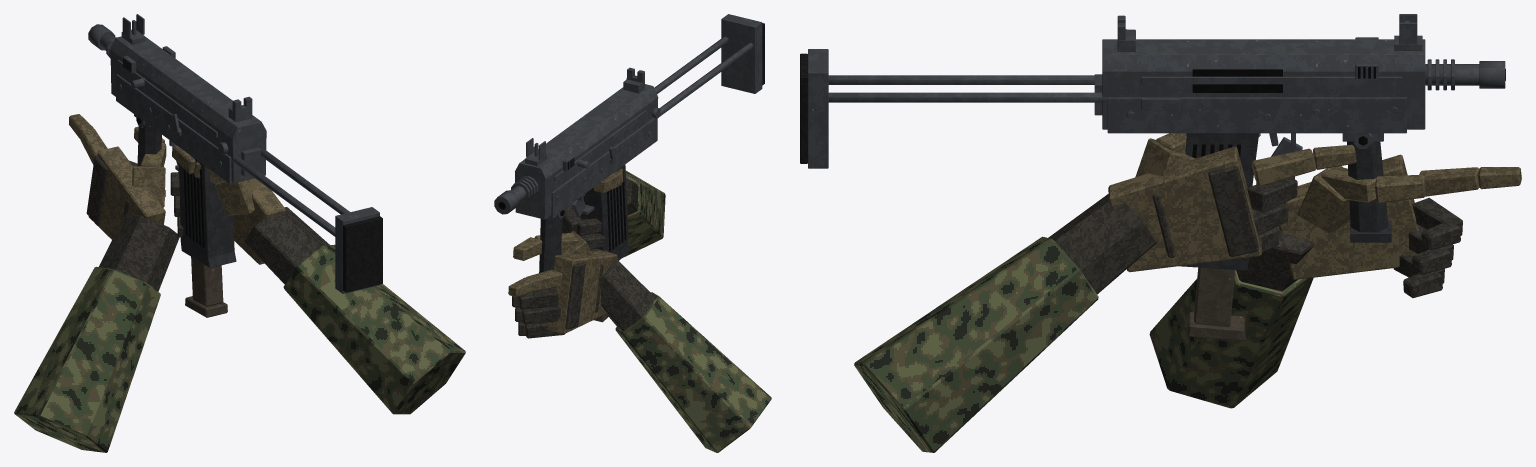
Rendered from gabro.glb.
3 views of the same model, side by side, from view 1: azimuth 30°, elevation 25°; view 2: azimuth 150°, elevation 25°; view 3: azimuth 270°, elevation 25° (orthographic). The views are drawn at different scales.
Visible parts, largest first — view 1: reka_l, korpus, reka_p, magazynek; view 2: reka_l, korpus, reka_p; view 3: korpus, reka_p, reka_l, magazynek.
Boxes of the visible parts, x1,y1,x2,y2 form: reka_l: (14,114,179,452); korpus: (88,14,382,293); reka_p: (170,145,465,414); magazynek: (185,257,227,317); reka_l: (508,231,771,452); korpus: (494,14,764,272); reka_p: (562,168,665,257); korpus: (800,14,1505,270); reka_p: (854,133,1356,452); reka_l: (1149,154,1521,408); magazynek: (1187,267,1245,340).
Size of the model in its own units: 0.3738 by 0.398 by 0.5588.
8 materials, 8 textured.
